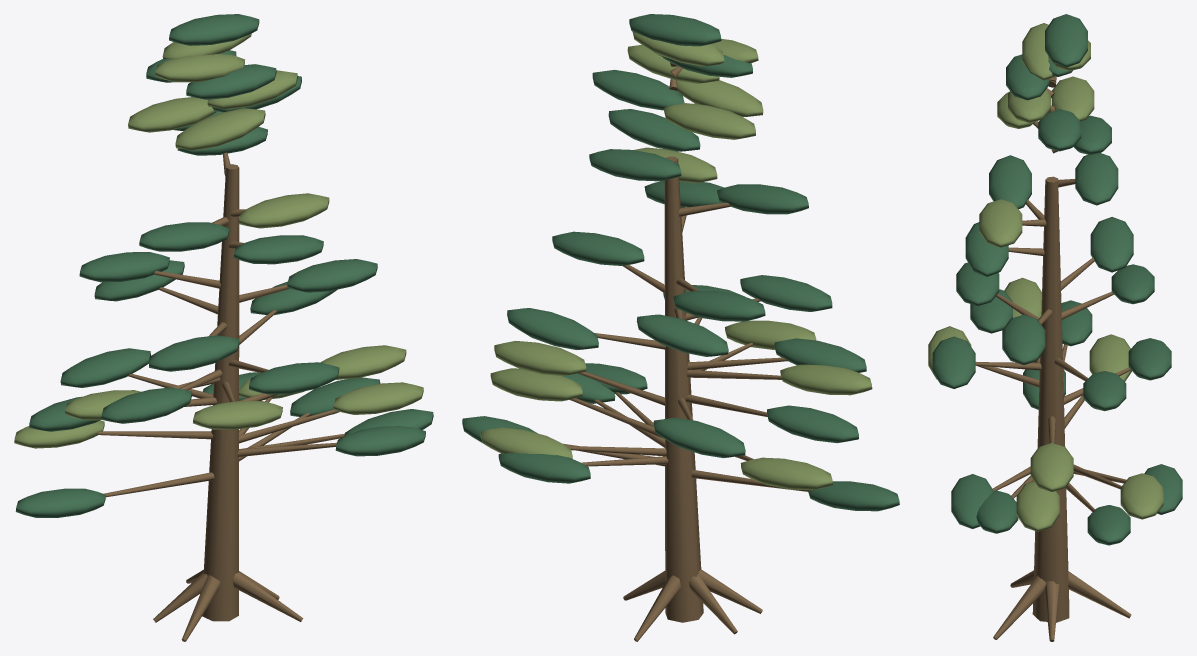
Rendered from tree-coastal-pine.glb.
3 renders of one model, left to right at view 1: azimuth 30°, elevation 25°; view 2: azimuth 150°, elevation 25°; view 3: azimuth 270°, elevation 25°, orthographic. The views are drawn at different scales.
Parts seen in each view (by area): view 1: Trunk, Canopy_27, Canopy_7, Canopy_22, Canopy_14, Canopy_24, Canopy_8, Canopy_21, Canopy_32, Canopy_2, Canopy_16, Canopy_1 (+25 smaller); view 2: Trunk, Canopy_28, Canopy_5, Canopy_7, Canopy_23, Canopy_4, Canopy_14, Canopy_33, Canopy_13, Canopy_0, Canopy_8, Canopy_12 (+28 smaller); view 3: Trunk, Canopy_20, Canopy_10, Canopy_2, Canopy_32, Canopy_1, Canopy_8, Canopy_0, Canopy_24, Canopy_21, Canopy_18, Canopy_16 (+26 smaller).
Boxes of the visible parts, left/top/right/bottom form: Trunk: left=202, top=164, right=239, bottom=621; Canopy_27: left=175, top=108, right=265, bottom=150; Canopy_7: left=60, top=348, right=150, bottom=387; Canopy_22: left=101, top=387, right=191, bottom=423; Canopy_14: left=149, top=335, right=239, bottom=371; Canopy_24: left=239, top=193, right=329, bottom=228; Canopy_8: left=287, top=259, right=377, bottom=292; Canopy_21: left=333, top=382, right=423, bottom=414; Canopy_32: left=249, top=362, right=339, bottom=394; Canopy_2: left=169, top=14, right=259, bottom=45; Canopy_16: left=335, top=426, right=425, bottom=456; Canopy_1: left=139, top=222, right=229, bottom=251; Trunk: left=664, top=156, right=703, bottom=622; Canopy_28: left=636, top=314, right=728, bottom=356; Canopy_5: left=507, top=308, right=598, bottom=349; Canopy_7: left=653, top=417, right=745, bottom=458; Canopy_23: left=608, top=109, right=700, bottom=151; Canopy_4: left=767, top=405, right=858, bottom=443; Canopy_14: left=740, top=275, right=832, bottom=311; Canopy_33: left=664, top=103, right=755, bottom=139; Canopy_13: left=592, top=69, right=684, bottom=110; Canopy_0: left=494, top=341, right=586, bottom=375; Canopy_8: left=552, top=231, right=644, bottom=265; Canopy_12: left=740, top=457, right=832, bottom=490; Trunk: left=1032, top=176, right=1069, bottom=622; Canopy_20: left=1090, top=217, right=1133, bottom=272; Canopy_10: left=1075, top=153, right=1118, bottom=205; Canopy_2: left=1045, top=14, right=1087, bottom=67; Canopy_32: left=932, top=336, right=975, bottom=388; Canopy_1: left=989, top=155, right=1031, bottom=208; Canopy_8: left=1002, top=314, right=1045, bottom=364; Canopy_0: left=1030, top=443, right=1073, bottom=491; Canopy_24: left=979, top=199, right=1022, bottom=247; Canopy_21: left=1016, top=481, right=1059, bottom=531; Canopy_18: left=1120, top=473, right=1163, bottom=519; Canopy_16: left=951, top=474, right=993, bottom=528.
Bounding box in the file's own units: 4.81 × 6.69 × 2.64.
